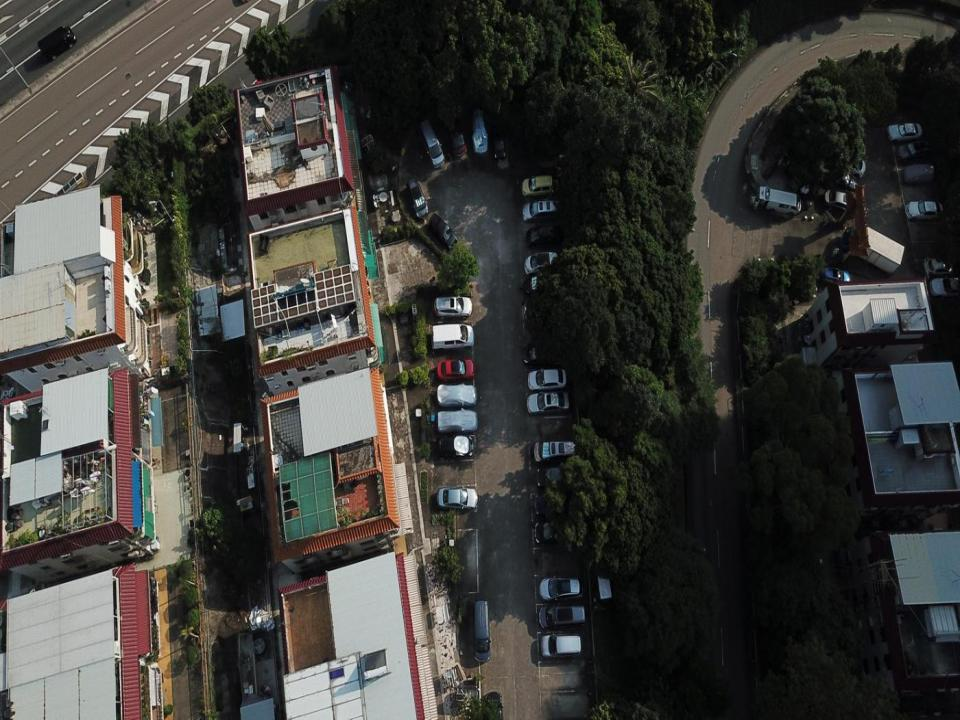car: (538, 601, 586, 629), (523, 338, 565, 367), (526, 388, 569, 416), (436, 484, 478, 512), (467, 104, 490, 155), (539, 575, 584, 601), (444, 111, 468, 159), (428, 212, 459, 249), (534, 520, 579, 545), (535, 491, 579, 516), (437, 408, 478, 434), (525, 223, 566, 249), (437, 356, 476, 383), (536, 464, 578, 489), (540, 633, 582, 658), (406, 178, 430, 220), (436, 383, 478, 407), (528, 366, 566, 392), (896, 137, 933, 163), (434, 294, 472, 319), (523, 297, 561, 322), (824, 187, 857, 214), (437, 433, 474, 457), (522, 199, 559, 223), (832, 153, 866, 178), (525, 251, 558, 276), (905, 199, 944, 220), (521, 174, 554, 198), (524, 273, 560, 295), (886, 121, 923, 142), (827, 168, 858, 192), (923, 256, 955, 279), (902, 162, 935, 184), (928, 277, 960, 298), (818, 266, 850, 287), (490, 122, 506, 162), (484, 691, 504, 719)
truck: (839, 224, 905, 274)
van: (37, 25, 77, 60), (419, 118, 446, 169), (758, 186, 802, 216), (472, 600, 492, 662), (431, 323, 474, 349), (534, 438, 576, 464)
